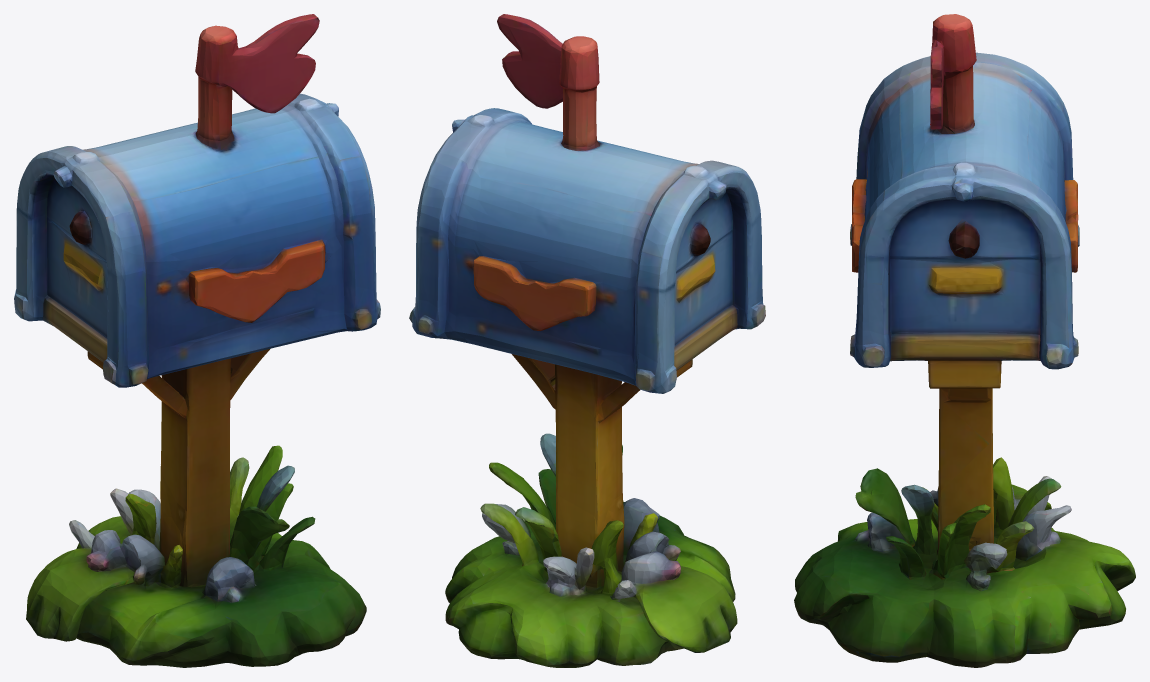
3 renders of one model, left to right at view 1: azimuth 30°, elevation 25°; view 2: azimuth 150°, elevation 25°; view 3: azimuth 270°, elevation 25°, orthographic. The views are drawn at different scales.
Visible parts, largest first — view 1: world; view 2: world; view 3: world.
Boxes of the visible parts, x1,y1,x2,y2 form: world: [14, 14, 380, 667]; world: [409, 14, 765, 667]; world: [794, 14, 1135, 667].
Bounding box in the file's own units: 0.5247 × 0.9991 × 0.5244.
Materials: 1 (1 with a texture image).
